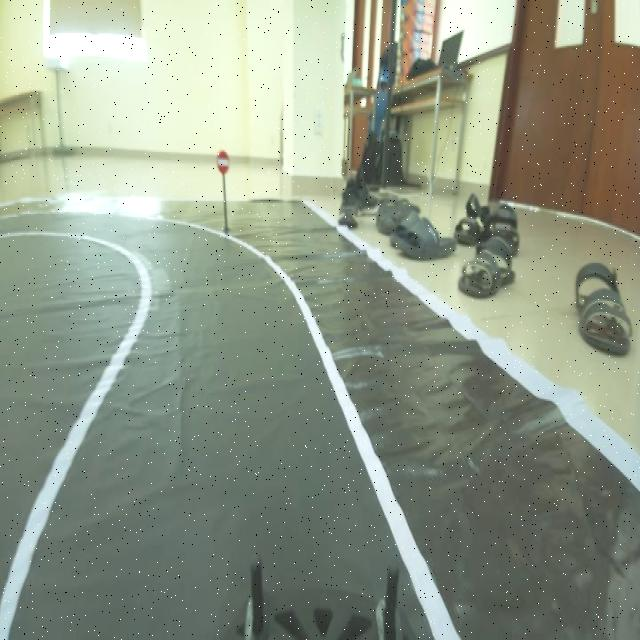no_entry: (214, 146, 235, 177)
